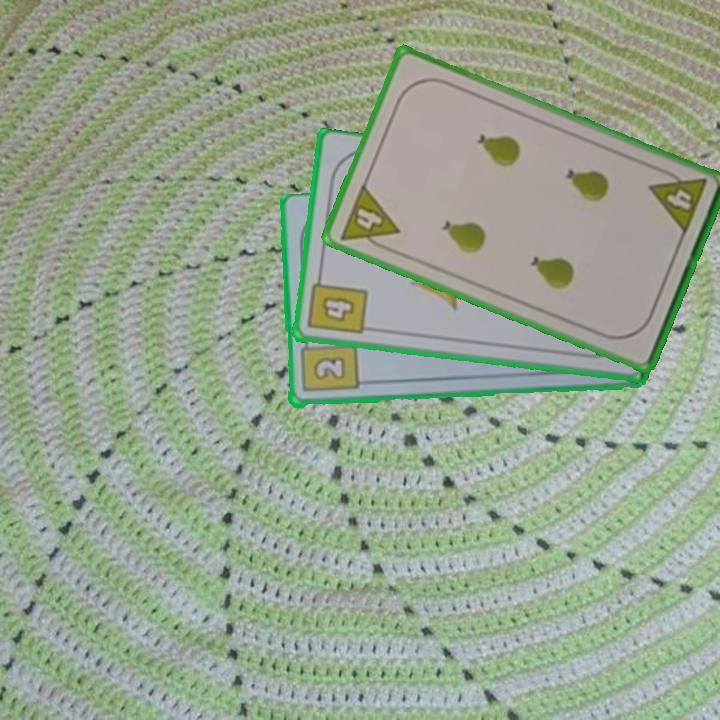2b: (297, 334, 360, 395)
4b: (305, 270, 371, 338)
4p: (336, 180, 403, 256), (646, 164, 710, 238)
